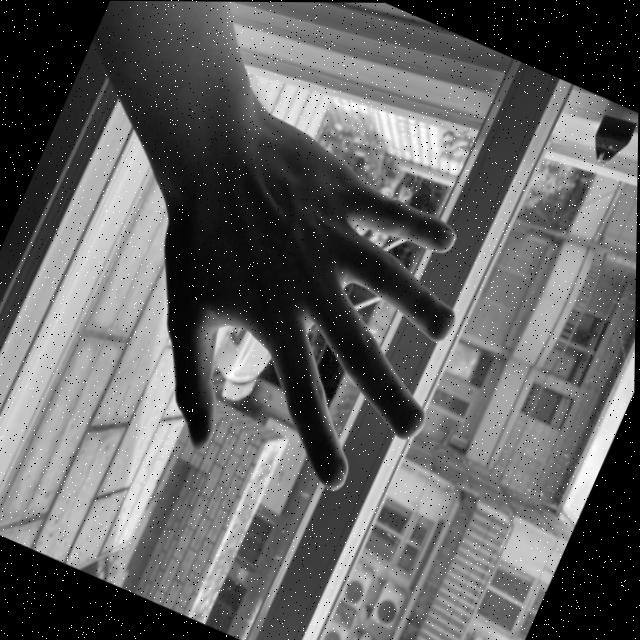hand: (101, 97, 514, 526)
